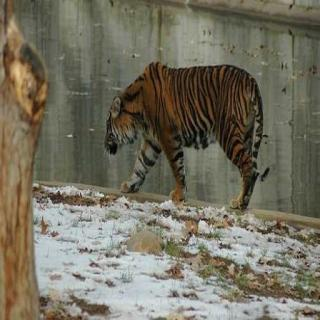Tiger: (100, 47, 276, 223)
